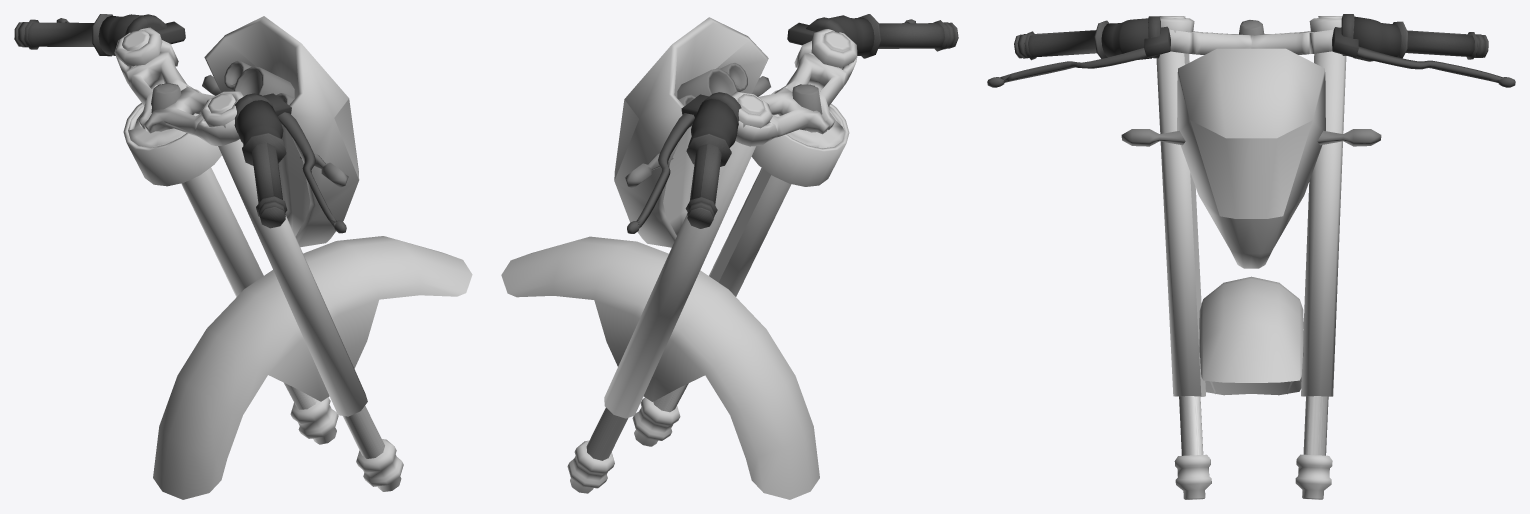
File: volante.obj
The picture shows the model from 3 angles, left to right: view 1: azimuth 30°, elevation 25°; view 2: azimuth 150°, elevation 25°; view 3: azimuth 270°, elevation 25°; orthographic projection. The views are drawn at different scales.
Parts seen in each view (by area): view 1: polySurface359; view 2: polySurface359; view 3: polySurface359.
Part boxes in pixels (x1,y1,x2,y2): polySurface359: (14,14,472,499); polySurface359: (501,14,958,499); polySurface359: (987,14,1515,499).
Size of the model in its own units: 0.9793 by 1.28 by 1.46.
